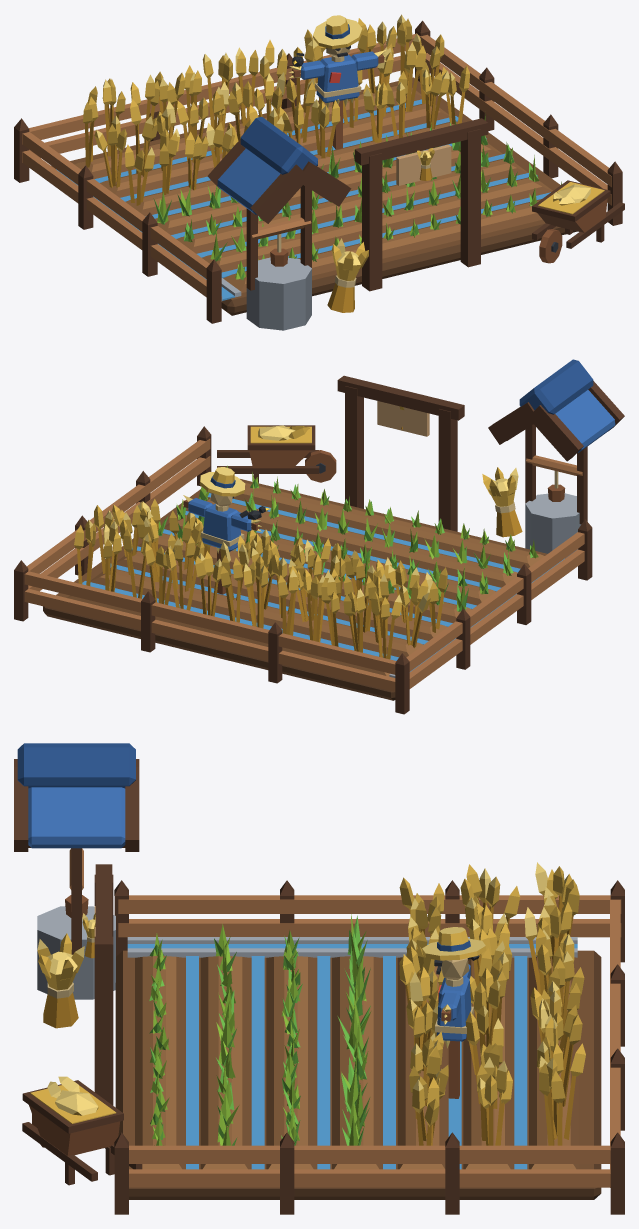
Rendered from Bld_Field_L2.fbx.
3 renders of one model, top to bottom at view 1: azimuth 30°, elevation 25°; view 2: azimuth 150°, elevation 25°; view 3: azimuth 270°, elevation 25°, orthographic. The views are drawn at different scales.
Visible parts, largest first — view 1: Bld_Field_L2; view 2: Bld_Field_L2; view 3: Bld_Field_L2.
Boxes of the visible parts, x1,y1,x2,y2 form: Bld_Field_L2: (14, 14, 624, 330); Bld_Field_L2: (14, 359, 624, 714); Bld_Field_L2: (14, 743, 624, 1214).
Size of the model in its own units: 5.16 by 2.28 by 5.16.
